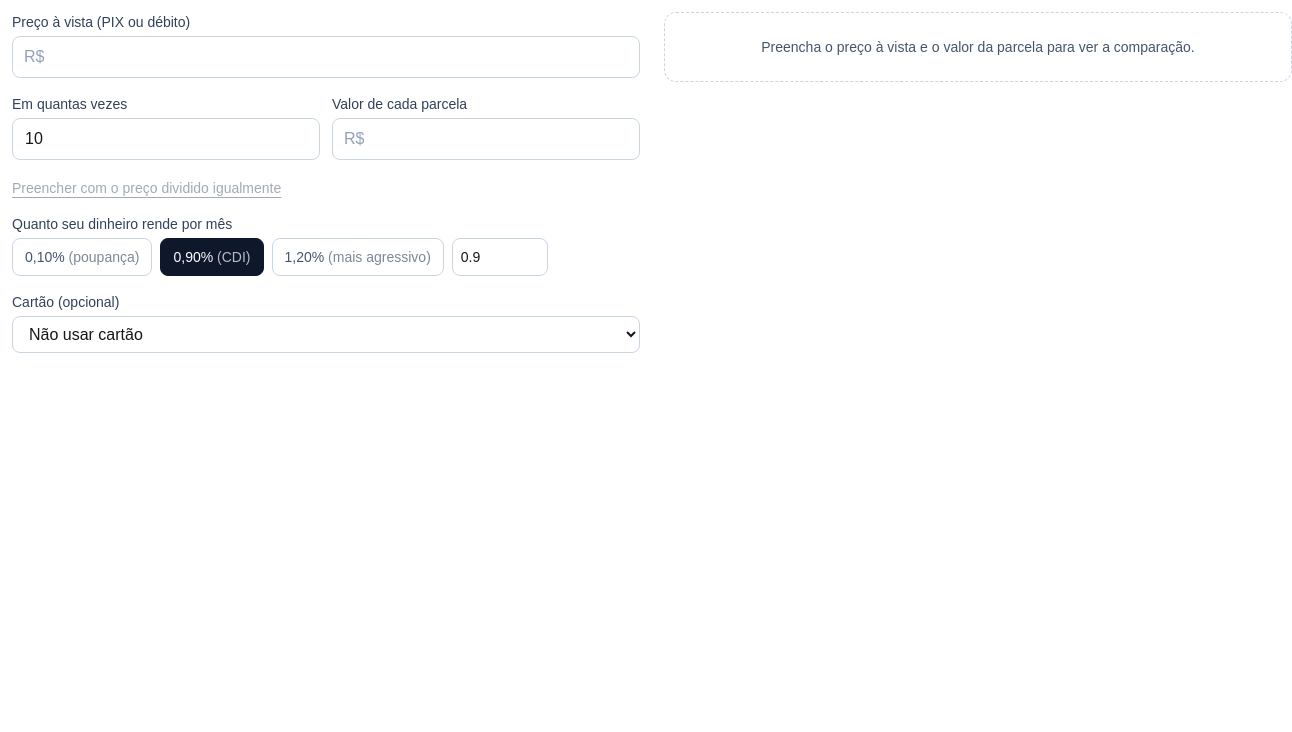
SimulatorForm — carencia deduzida do cartao › escolhendo o cartao, explica quando a primeira parcela sai
Select "Nubank roxinho" in the dropdown labelled "Cartão (opcional)": (326, 334) [12,316,640,353]
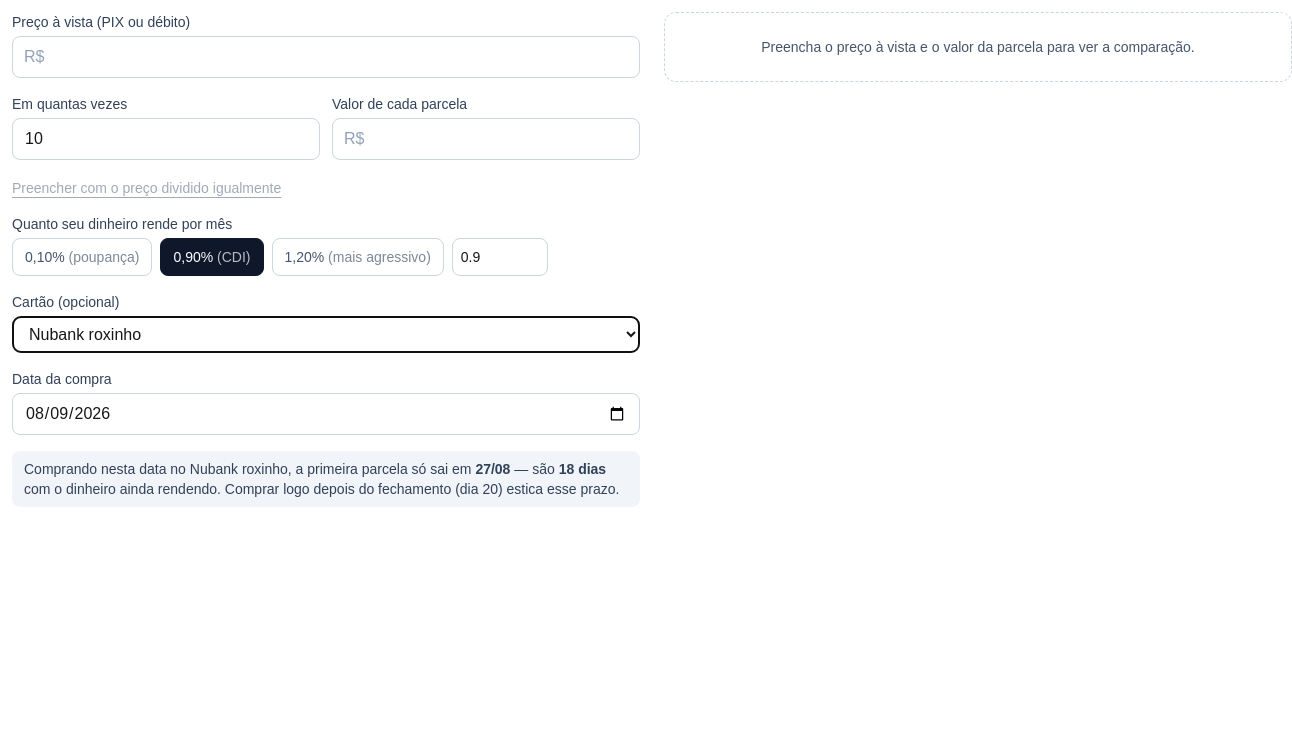
expect the text "a primeira parcela só sai em" is shown: met, box [288,461,471,477]
